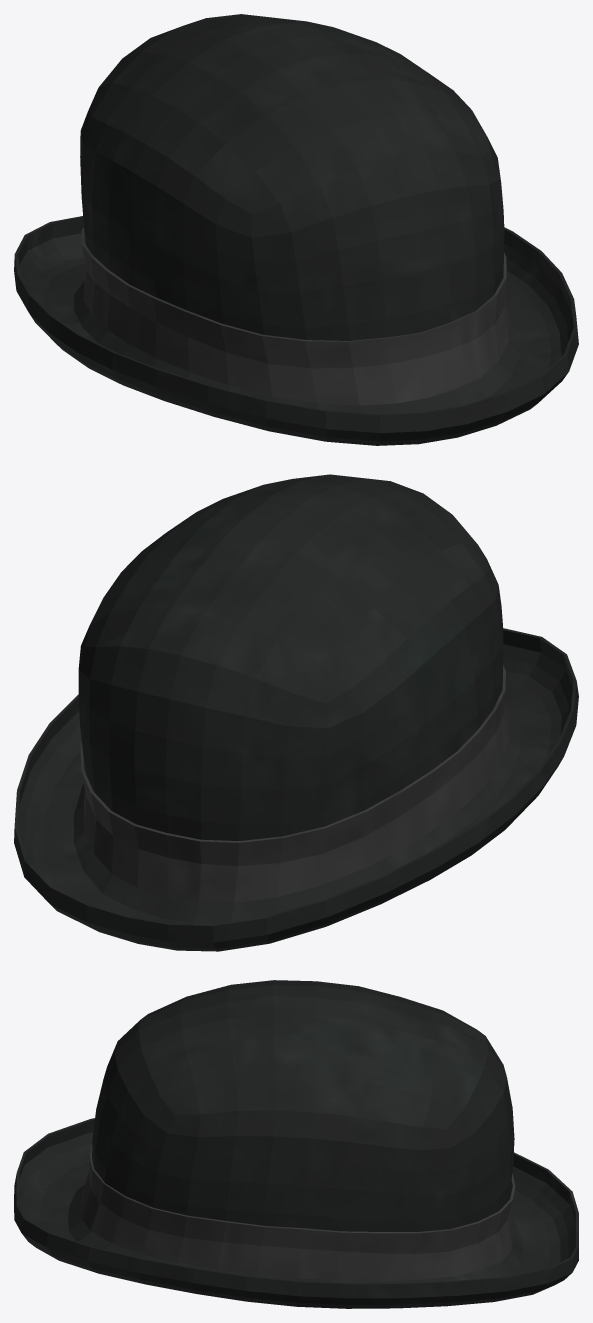
File: bowler_hat.glb
3 renders of one model, top to bottom at view 1: azimuth 30°, elevation 25°; view 2: azimuth 150°, elevation 25°; view 3: azimuth 270°, elevation 25°, orthographic. The views are drawn at different scales.
Visible parts, largest first — view 1: cl_bowler_hat; view 2: cl_bowler_hat; view 3: cl_bowler_hat.
Part boxes in pixels (x1,y1,x2,y2): cl_bowler_hat: [14, 14, 578, 445]; cl_bowler_hat: [14, 474, 578, 951]; cl_bowler_hat: [14, 980, 578, 1308].
Size of the model in its own units: 0.2097 by 0.1454 by 0.281.
1 material, 1 textured.
